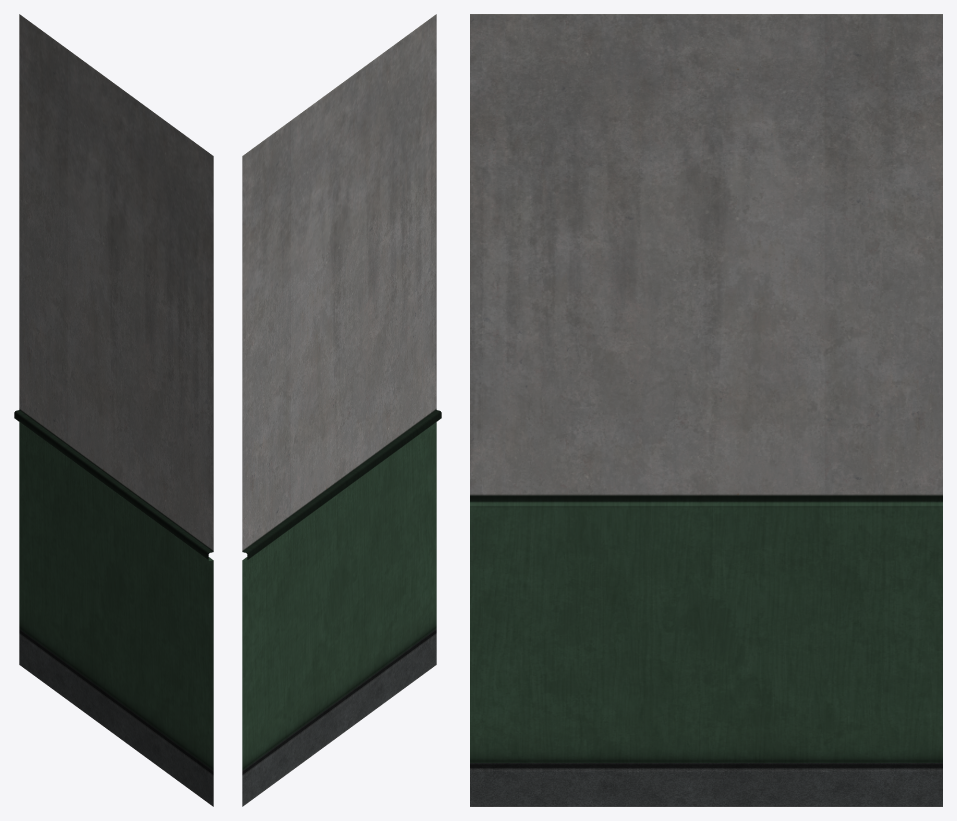
Rendered from Psychiatric_Ward_Infirmary_Wall_2m.glb.
The picture shows the model from 3 angles, left to right: view 1: azimuth 30°, elevation 25°; view 2: azimuth 150°, elevation 25°; view 3: azimuth 270°, elevation 25°; orthographic projection. The views are drawn at different scales.
Parts seen in each view (by area): view 1: Psychiatric_Ward_Infirmary_Wall_2m; view 2: Psychiatric_Ward_Infirmary_Wall_2m; view 3: Psychiatric_Ward_Infirmary_Wall_2m.
Boxes of the visible parts, bbox=[...] form: Psychiatric_Ward_Infirmary_Wall_2m: bbox=[14, 14, 213, 806]; Psychiatric_Ward_Infirmary_Wall_2m: bbox=[242, 14, 441, 806]; Psychiatric_Ward_Infirmary_Wall_2m: bbox=[470, 14, 942, 806].
Bounding box in the file's own units: 0.03 × 3.7 × 2.
Materials: 1 (1 with a texture image).
